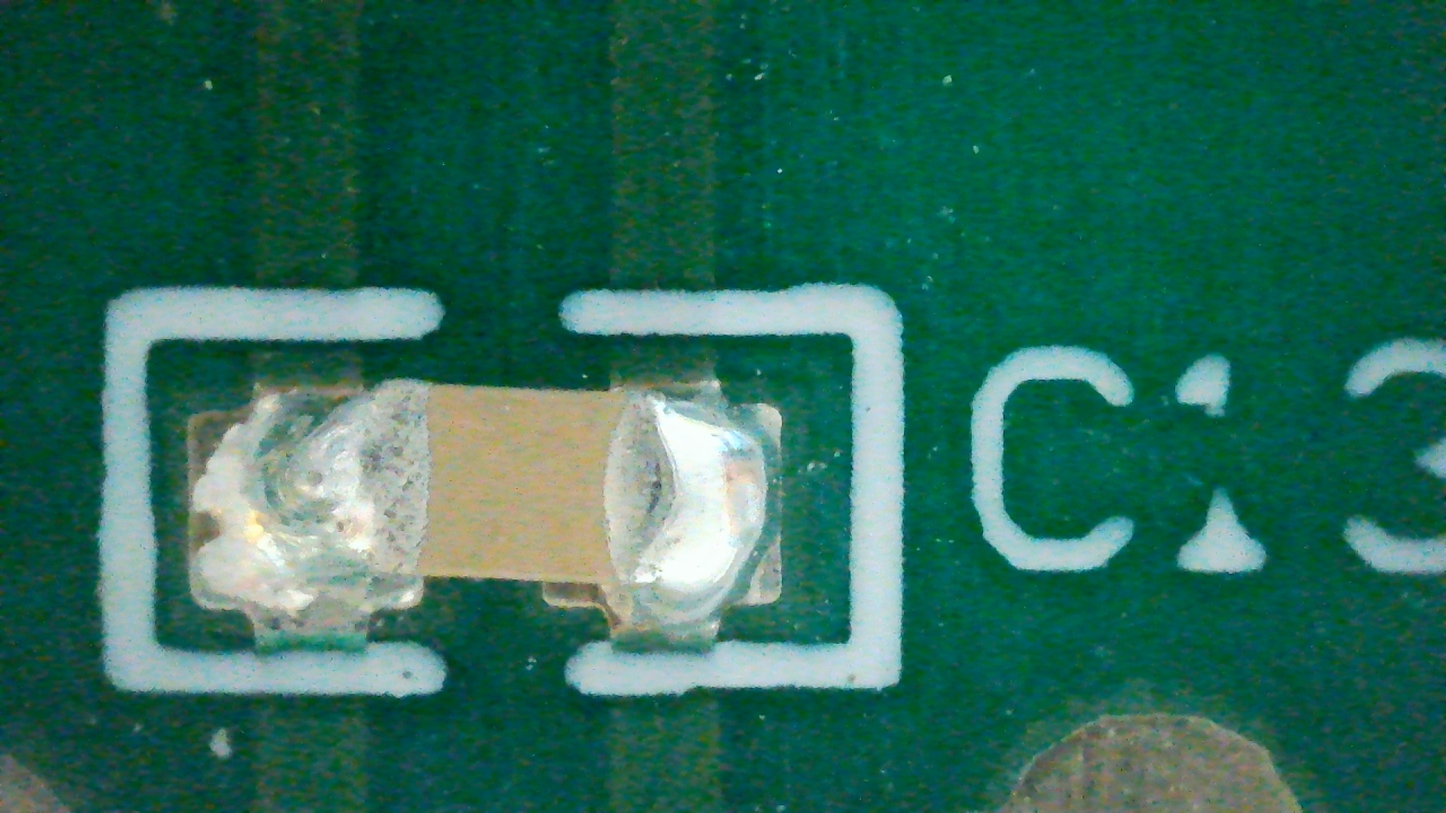NG: (190, 379, 783, 647)
